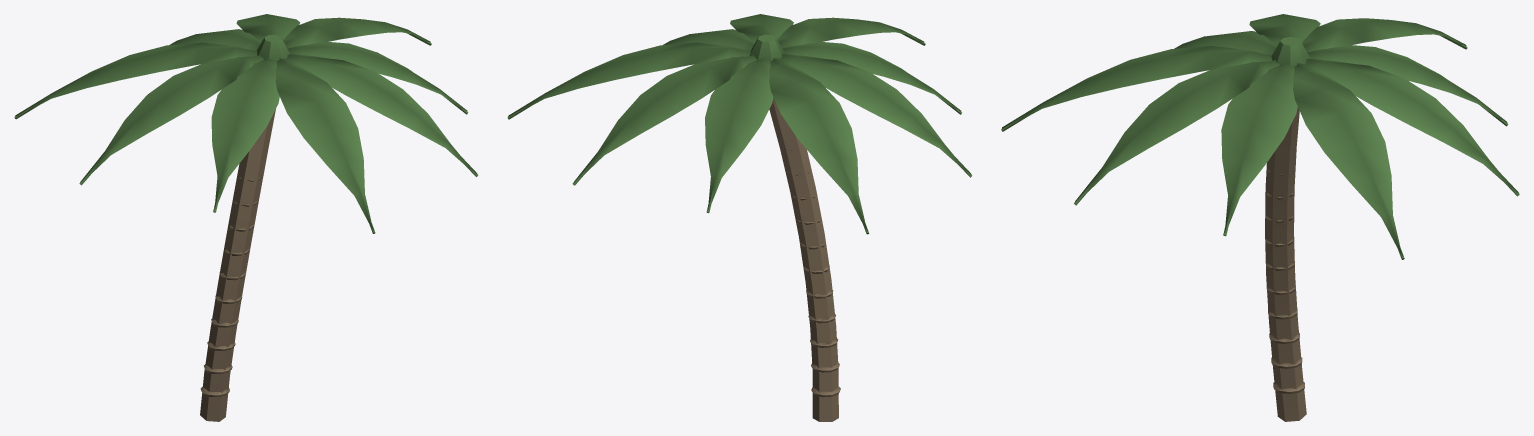
The model's file is palm.glb.
3 views of the same model, side by side, from view 1: azimuth 30°, elevation 25°; view 2: azimuth 150°, elevation 25°; view 3: azimuth 270°, elevation 25° (orthographic). The views are drawn at different scales.
Parts seen in each view (by area): view 1: boat_frond, boat_bark; view 2: boat_frond, boat_bark; view 3: boat_frond, boat_bark.
Part boxes in pixels (<box>): boat_frond: <box>14,14,478,233</box>; boat_bark: <box>200,109,275,421</box>; boat_frond: <box>507,14,972,234</box>; boat_bark: <box>769,97,840,421</box>; boat_frond: <box>1001,14,1519,259</box>; boat_bark: <box>1265,107,1306,421</box>.
Bounding box in the file's own units: 6.16 × 5.26 × 6.07.
